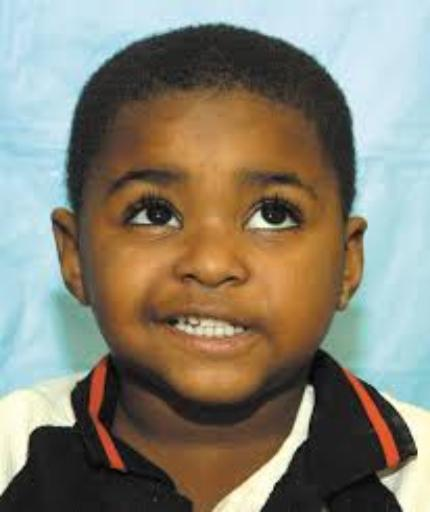left_eye: (245, 199, 309, 237)
left_lip_corner: (248, 323, 268, 343)
right_eye: (119, 196, 185, 233)
right_lip_corner: (145, 312, 171, 335)
